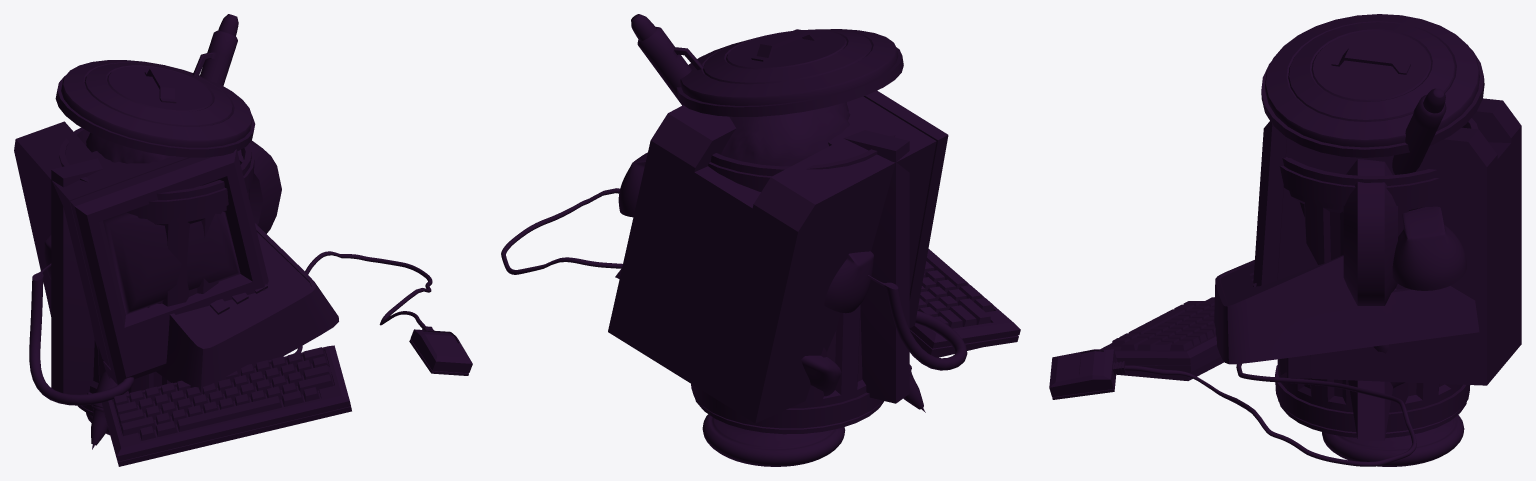
Rendered from symbols.glb.
The picture shows the model from 3 angles, left to right: view 1: azimuth 30°, elevation 25°; view 2: azimuth 150°, elevation 25°; view 3: azimuth 270°, elevation 25°; orthographic projection. The views are drawn at different scales.
Parts seen in each view (by area): view 1: computer, trashcan, phone, logo, pen, bust; view 2: computer, trashcan, bust, logo, phone, pen; view 3: computer, trashcan, phone, logo, bust, pen.
Part boxes in pixels (<box>): computer: <box>14,121,472,466</box>; trashcan: <box>55,60,255,415</box>; phone: <box>29,223,338,405</box>; logo: <box>51,140,281,394</box>; pen: <box>91,14,238,449</box>; bust: <box>86,133,175,435</box>; computer: <box>501,90,1020,423</box>; trashcan: <box>677,29,903,434</box>; bust: <box>702,102,850,466</box>; logo: <box>843,130,909,403</box>; phone: <box>615,152,967,370</box>; pen: <box>631,14,925,412</box>; computer: <box>1049,98,1521,466</box>; trashcan: <box>1261,14,1484,438</box>; phone: <box>1214,206,1479,364</box>; logo: <box>1343,159,1397,440</box>; bust: <box>1322,344,1464,466</box>; pen: <box>1392,88,1446,174</box>.
Size of the model in its own units: 375 by 337 by 356.
